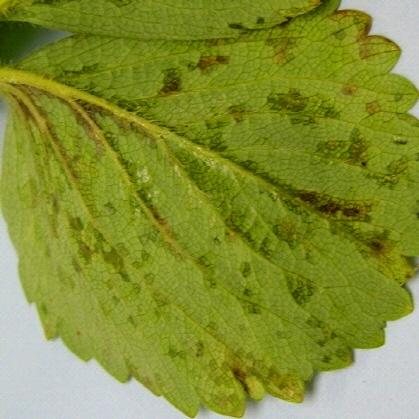Angular Leafspot: (0, 0, 418, 418)
